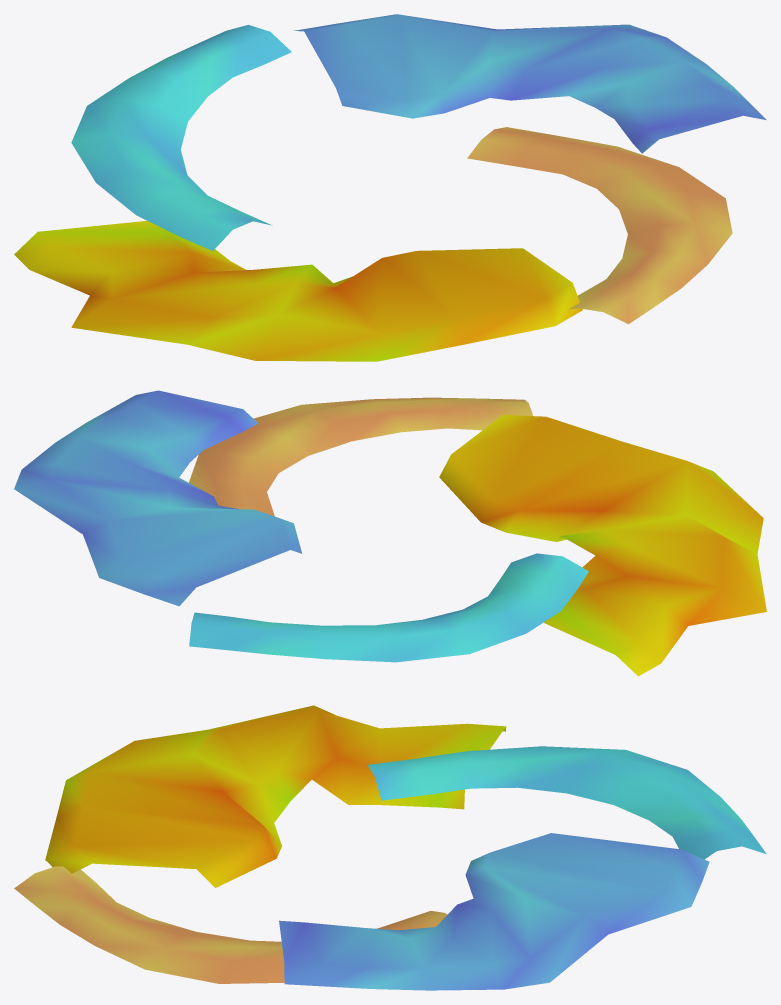
The model's file is space-galaxies-spiral-galaxy_v17.glb.
The picture shows the model from 3 angles, top to bottom: view 1: azimuth 30°, elevation 25°; view 2: azimuth 150°, elevation 25°; view 3: azimuth 270°, elevation 25°; orthographic projection. The views are drawn at different scales.
Visible parts, largest first — view 1: Spiral Galaxy_v17; view 2: Spiral Galaxy_v17; view 3: Spiral Galaxy_v17.
Part boxes in pixels (x1,y1,x2,y2): Spiral Galaxy_v17: [14, 14, 766, 361]; Spiral Galaxy_v17: [14, 390, 766, 676]; Spiral Galaxy_v17: [14, 705, 766, 990].
Bounding box in the file's own units: 0.5 × 0.048 × 0.4725.
